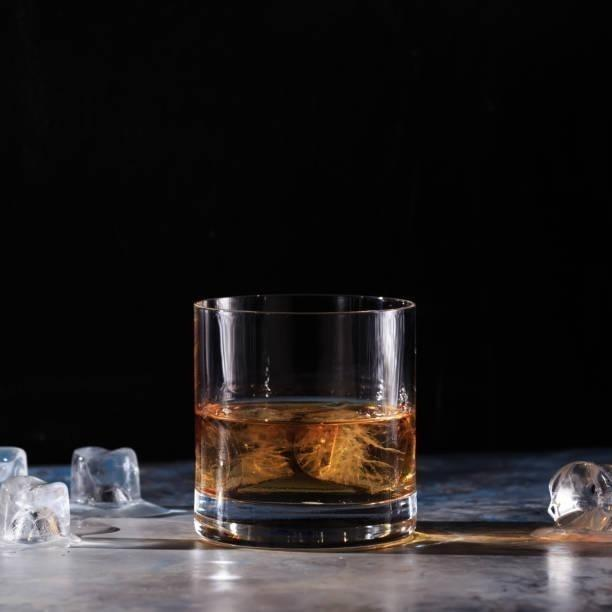glass-normal: (191, 290, 422, 551)
